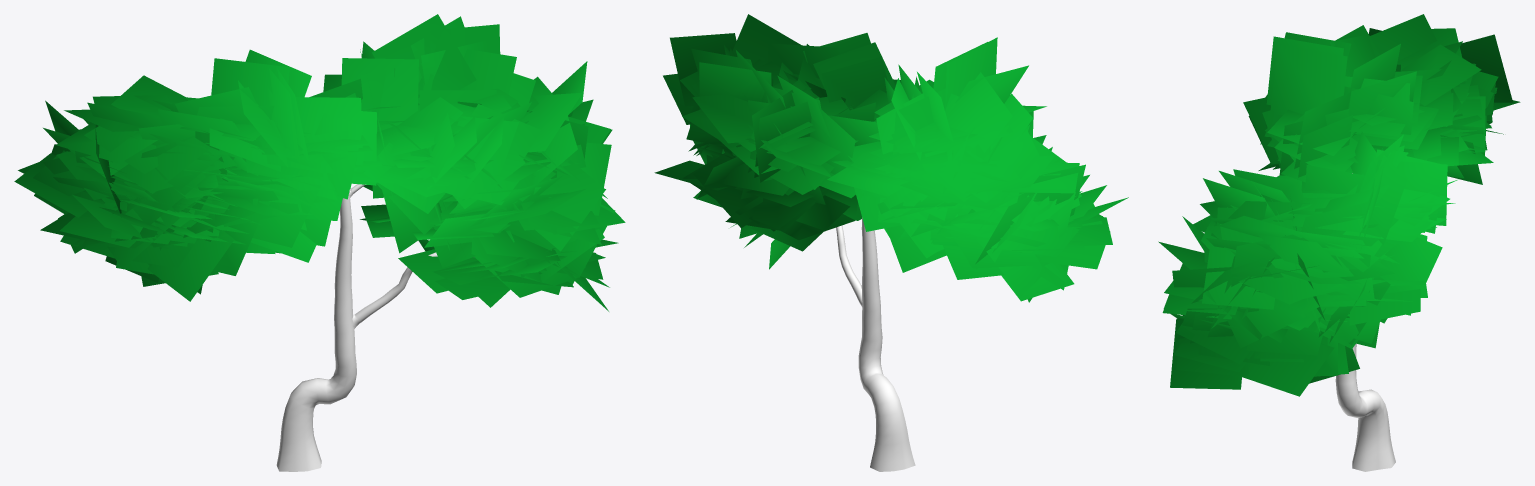
The model's file is SM_Tree_02.fbx.
3 renders of one model, left to right at view 1: azimuth 30°, elevation 25°; view 2: azimuth 150°, elevation 25°; view 3: azimuth 270°, elevation 25°, orthographic. The views are drawn at different scales.
Visible parts, largest first — view 1: Leaf, Trunk; view 2: Leaf, Trunk; view 3: Leaf, Trunk.
Boxes of the visible parts, <box> form: Leaf: <box>14,14,625,311</box>; Trunk: <box>276,184,437,471</box>; Leaf: <box>654,14,1128,302</box>; Trunk: <box>836,217,915,471</box>; Leaf: <box>1158,14,1520,396</box>; Trunk: <box>1335,343,1395,471</box>.
Bounding box in the file's own units: 11.79 × 9.25 × 7.63.
